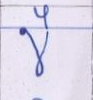ai_matra: (33, 5, 53, 27)
